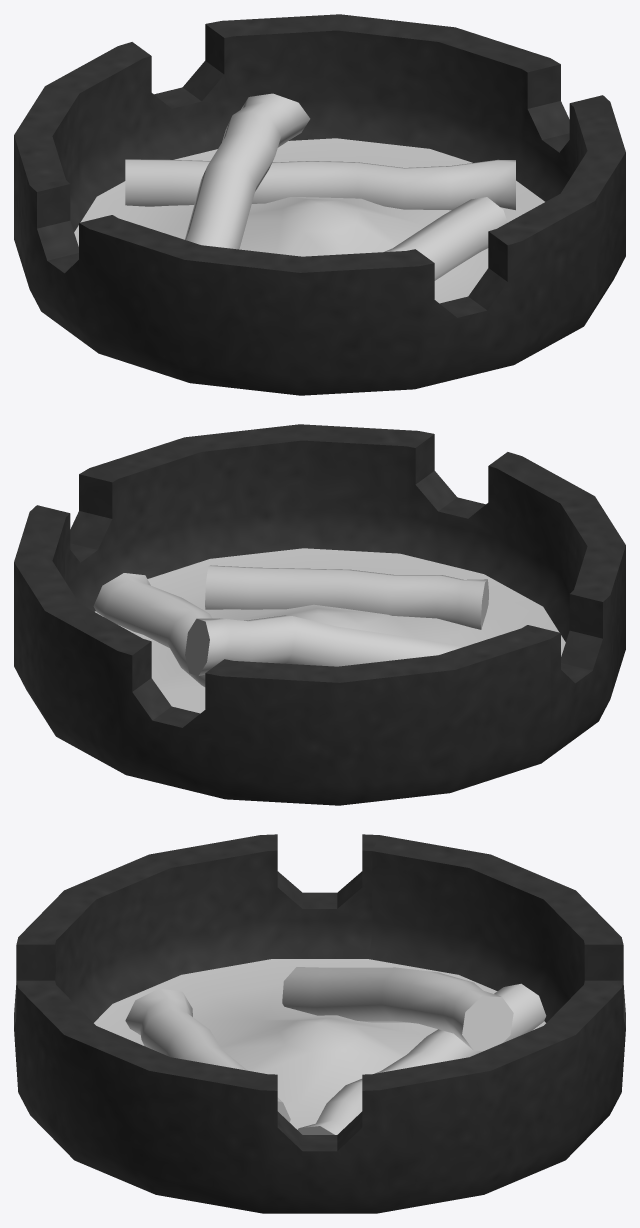
The model's file is ashtray_1.obj.
The picture shows the model from 3 angles, top to bottom: view 1: azimuth 30°, elevation 25°; view 2: azimuth 150°, elevation 25°; view 3: azimuth 270°, elevation 25°; orthographic projection.
Visible parts, largest first — view 1: ashtray_1; view 2: ashtray_1; view 3: ashtray_1.
Boxes of the visible parts, left/top/right/bottom form: ashtray_1: left=14, top=14, right=625, bottom=395; ashtray_1: left=14, top=424, right=625, bottom=805; ashtray_1: left=14, top=834, right=625, bottom=1213.
Bounding box in the file's own units: 0.1432 × 0.036 × 0.1432.
